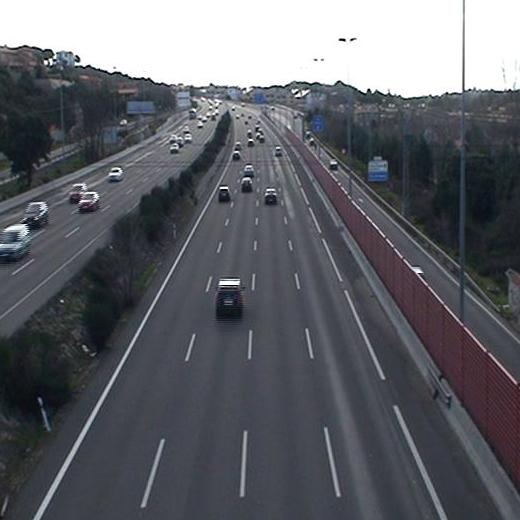car: (212, 274, 247, 321), (215, 184, 234, 206), (262, 187, 281, 207), (240, 175, 255, 195), (242, 161, 257, 178)
